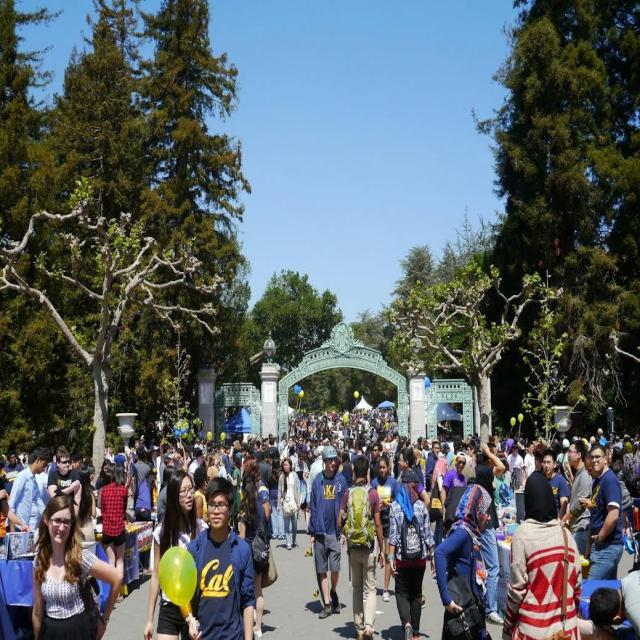body: (501, 468, 583, 640), (27, 494, 123, 639), (175, 474, 257, 640), (141, 468, 209, 640), (431, 481, 495, 639), (335, 450, 386, 639), (384, 466, 437, 639), (304, 442, 351, 620), (224, 434, 388, 472), (475, 442, 507, 628), (237, 472, 270, 639), (0, 452, 54, 549), (587, 442, 624, 582), (94, 420, 159, 495), (369, 453, 401, 603), (123, 442, 158, 574), (4, 444, 52, 534), (98, 463, 128, 605), (559, 438, 593, 558), (158, 435, 226, 491), (587, 566, 639, 639), (287, 402, 398, 435), (438, 451, 468, 538), (274, 455, 301, 551), (46, 445, 82, 516), (608, 445, 635, 538), (541, 447, 572, 527), (586, 425, 640, 468), (53, 442, 95, 497), (397, 448, 431, 512), (240, 454, 271, 524), (386, 434, 426, 488), (427, 456, 449, 552), (575, 610, 640, 640), (428, 454, 448, 551), (554, 434, 587, 492), (452, 429, 482, 486), (224, 452, 243, 538), (488, 427, 537, 460), (292, 450, 310, 534), (268, 457, 286, 541), (77, 467, 97, 542), (306, 444, 327, 513), (493, 458, 517, 518), (143, 494, 159, 578), (577, 450, 598, 513), (625, 496, 640, 577), (620, 440, 639, 498), (424, 439, 442, 499), (192, 465, 210, 523), (425, 434, 452, 467), (337, 448, 355, 489), (505, 442, 525, 475), (258, 448, 274, 488), (369, 441, 384, 480), (522, 440, 536, 481), (523, 438, 536, 481), (112, 443, 128, 477), (95, 458, 112, 490), (158, 464, 176, 494), (531, 443, 549, 472), (430, 567, 452, 588), (432, 436, 446, 459)
